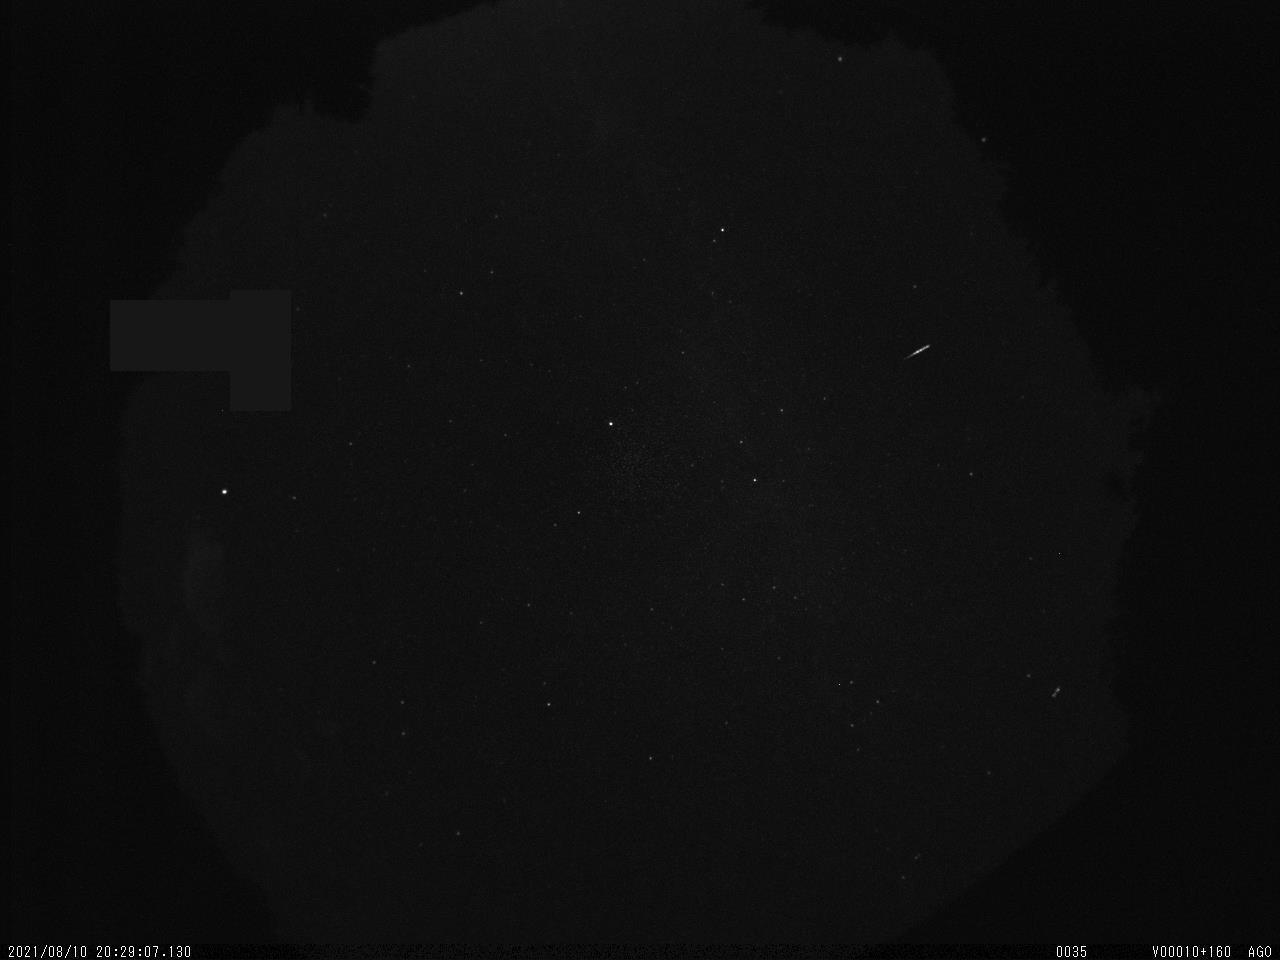meteor: (894, 329, 939, 376)
